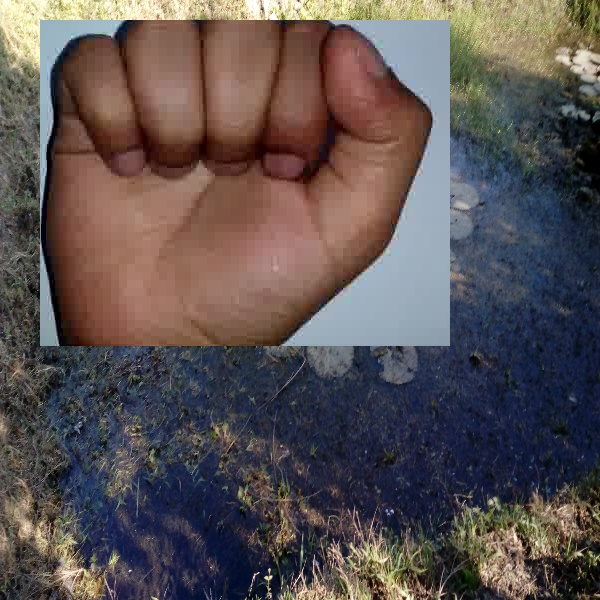A: (40, 20, 450, 346)
